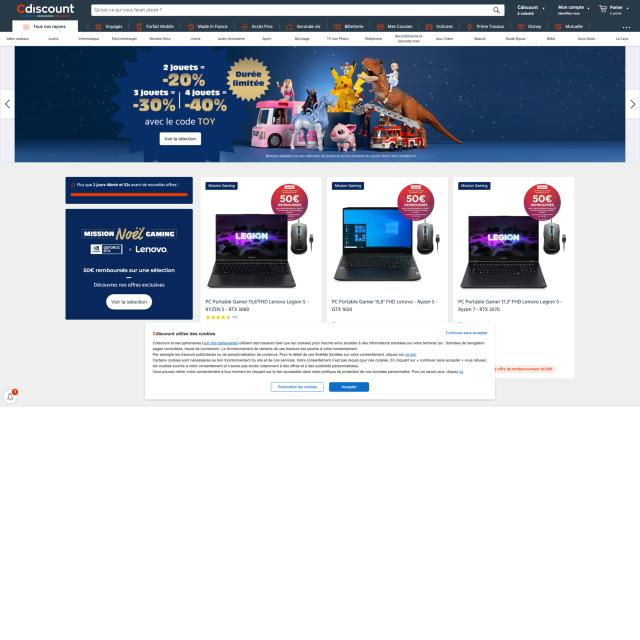input: (92, 4, 506, 16)
logo: (17, 2, 78, 18)
navigation: (12, 20, 590, 32), (4, 36, 634, 42), (13, 20, 79, 32), (0, 90, 15, 118), (625, 90, 640, 118)
